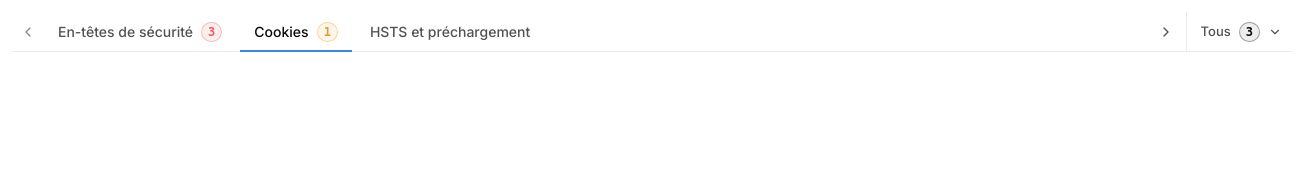
Scenario: onglets qui débordent › menu « Tous » : liste complète cochée, flèches, choix qui active l'onglet et lui rend le focus
This screenshot has width=1304, height=172.
Click the button named "Tous les onglets 3" at (1241, 32), box x1=1191 y1=16 x2=1292 y2=47
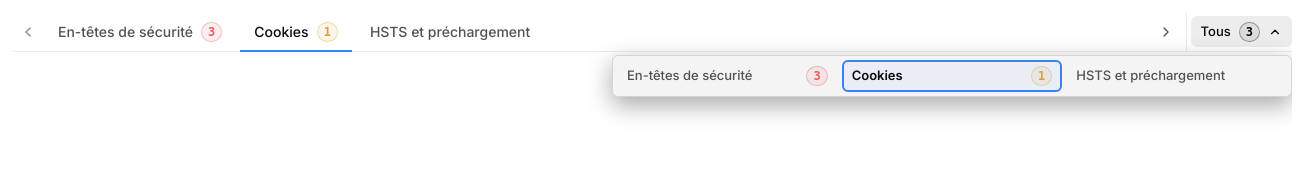
Expected: the button named "Tous les onglets 3" is expanded, x1=1191 y1=16 x2=1292 y2=47
Press Arrowdown
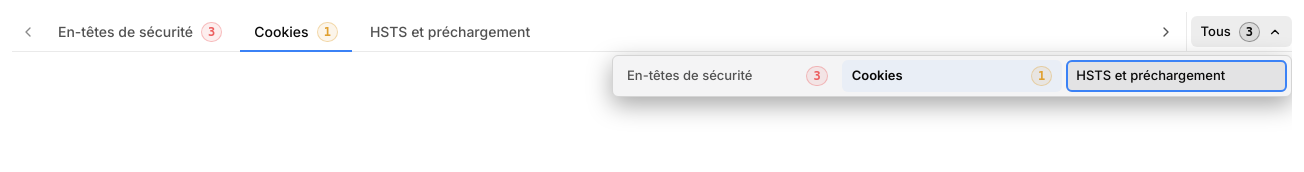
Press Arrowdown
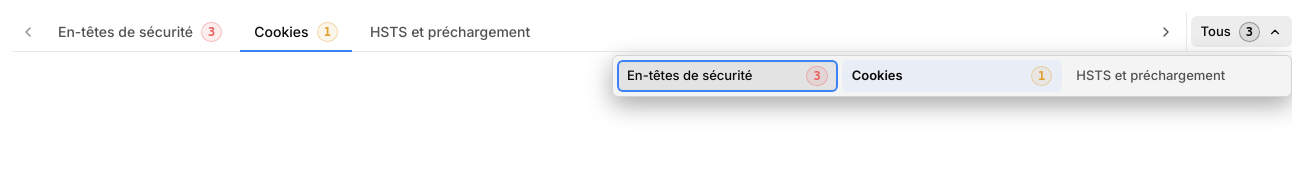
Press End
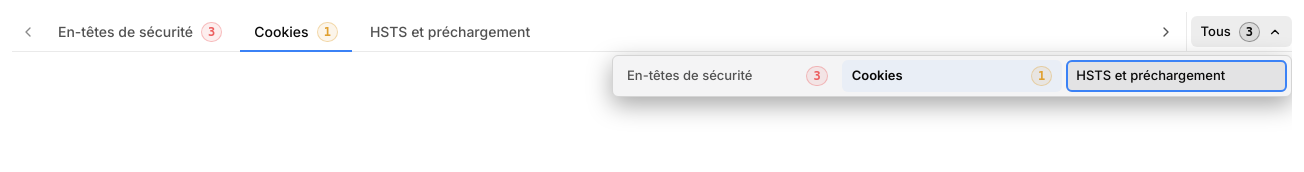
Press Enter
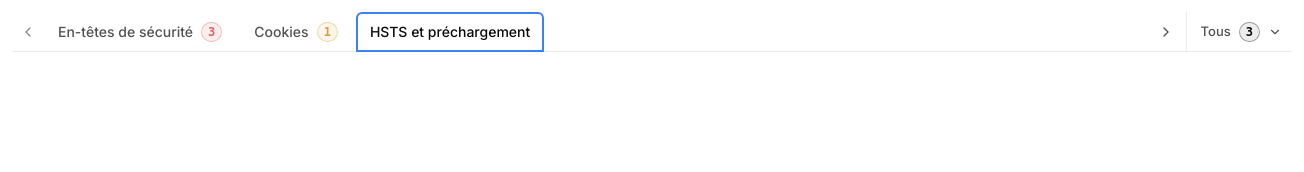
Expected: the menu is gone
